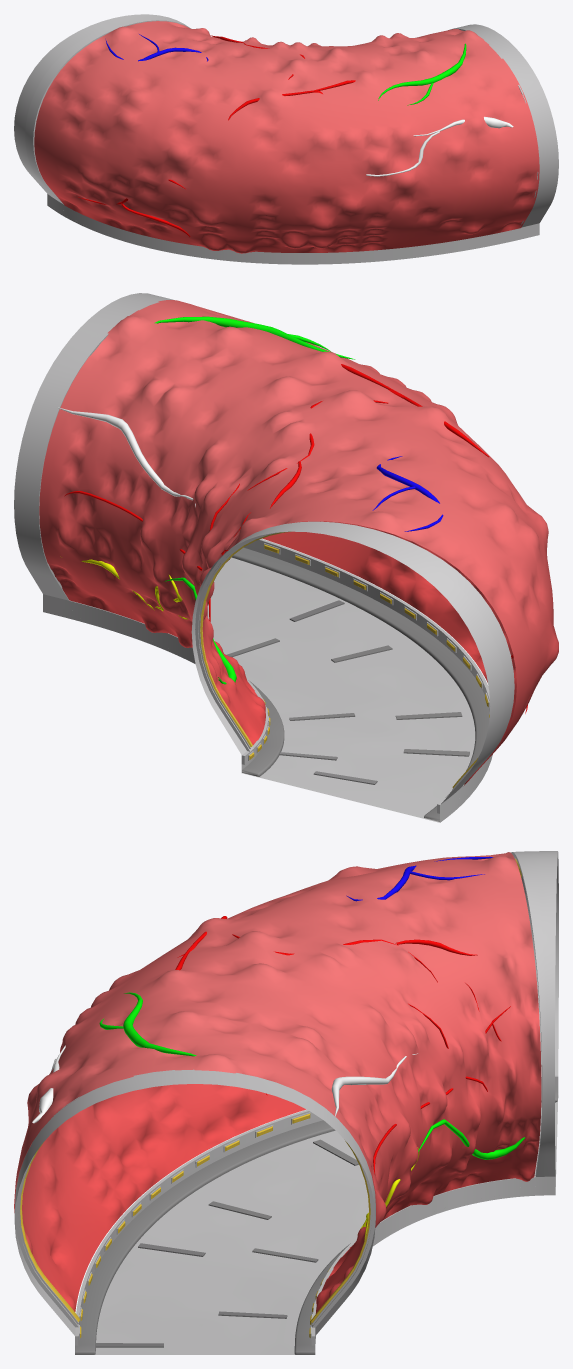
Rendered from Terowongan_1_Kanan.fbx.
3 renders of one model, top to bottom at view 1: azimuth 30°, elevation 25°; view 2: azimuth 150°, elevation 25°; view 3: azimuth 270°, elevation 25°, orthographic. The views are drawn at different scales.
Parts seen in each view (by area): view 1: Terowongan 1_Kanan; view 2: Terowongan 1_Kanan; view 3: Terowongan 1_Kanan.
Part boxes in pixels (bbox=[...]): Terowongan 1_Kanan: bbox=[14, 14, 558, 264]; Terowongan 1_Kanan: bbox=[14, 293, 558, 822]; Terowongan 1_Kanan: bbox=[14, 851, 558, 1354].
Bounding box in the file's own units: 989 × 450 × 795.
Materials: 4 (4 with a texture image).
